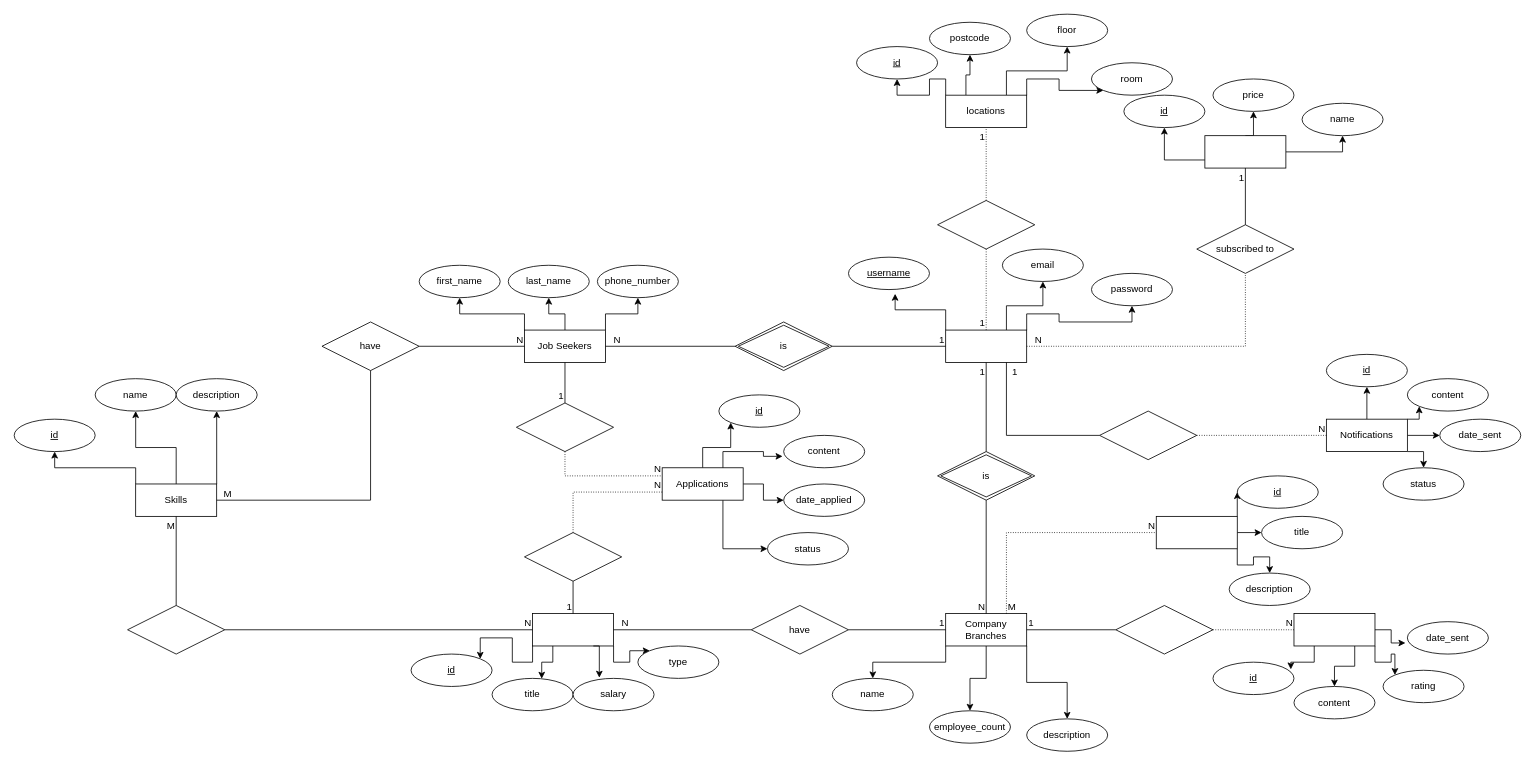
This 1535x765 diagram has some shape labels left out. Each missing label, with the centre of its shape:
"Account" goes at pixel 986 345.
"Company Reviews" goes at pixel 1334 629.
"fills_out" goes at pixel 565 427.
"has" goes at pixel 1148 435.
"Industries" goes at pixel 1196 532.
"Jobs" goes at pixel 573 629.
"located" goes at pixel 986 224.
"Plans" goes at pixel 1245 151.
"Relationship" goes at pixel 1164 629.
"require" goes at pixel 176 629.
"sent_to" goes at pixel 573 556.
